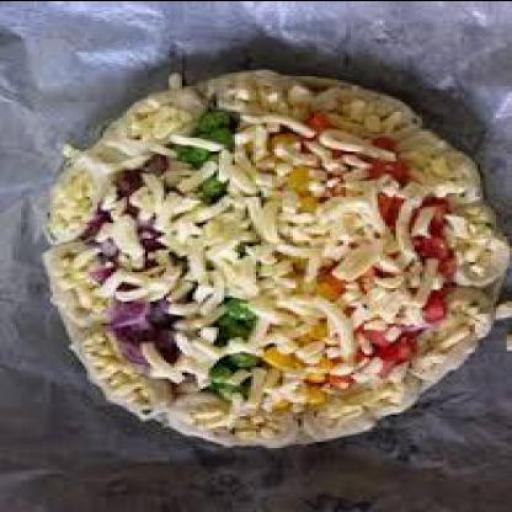biodegradable: (37, 69, 509, 450)
